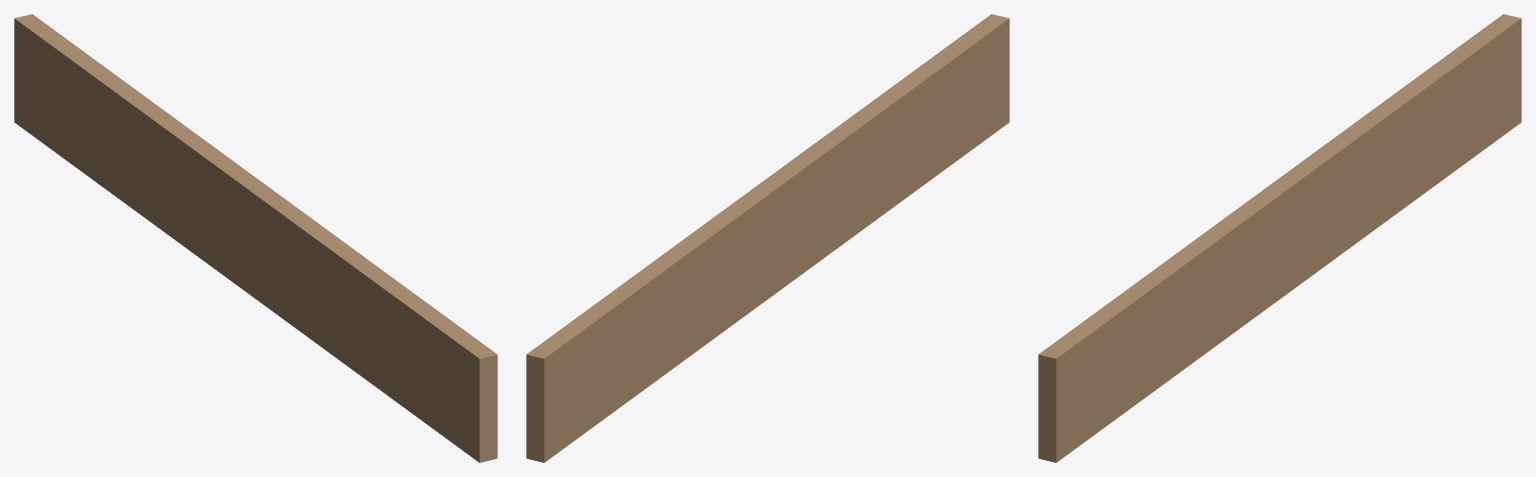
The model's file is fractured plank.fbx.
3 views of the same model, side by side, from view 1: azimuth 30°, elevation 25°; view 2: azimuth 150°, elevation 25°; view 3: azimuth 330°, elevation 25° (orthographic).
Visible parts, largest first — view 1: Cube, Cube_cell.007, Cube_cell.005, Cube_cell.006, Cube_cell.004, Cube_cell; view 2: Cube, Cube_cell.005, Cube_cell.007, Cube_cell.004, Cube_cell.006, Cube_cell; view 3: Cube, Cube_cell.001, Cube_cell, Cube_cell.003, Cube_cell.004, Cube_cell.002.
Boxes of the visible parts, box(x1,y1,x2,y2) form: Cube: box(14, 16, 497, 462); Cube_cell.007: box(247, 241, 488, 462); Cube_cell.005: box(14, 73, 246, 292); Cube_cell.006: box(247, 189, 488, 409); Cube_cell.004: box(14, 16, 255, 239); Cube_cell: box(24, 14, 264, 186); Cube: box(526, 14, 1009, 462); Cube_cell.005: box(535, 241, 776, 462); Cube_cell.007: box(777, 72, 1009, 291); Cube_cell.004: box(535, 186, 776, 410); Cube_cell.006: box(777, 24, 1006, 239); Cube_cell: box(526, 184, 767, 408); Cube: box(1038, 16, 1521, 462); Cube_cell.001: box(1289, 71, 1521, 274); Cube_cell: box(1280, 16, 1521, 238); Cube_cell.003: box(1047, 246, 1285, 462); Cube_cell.004: box(1271, 14, 1511, 186); Cube_cell.002: box(1047, 229, 1288, 409).
Bounding box in the file's own units: 10.38 × 57.54 × 466.
